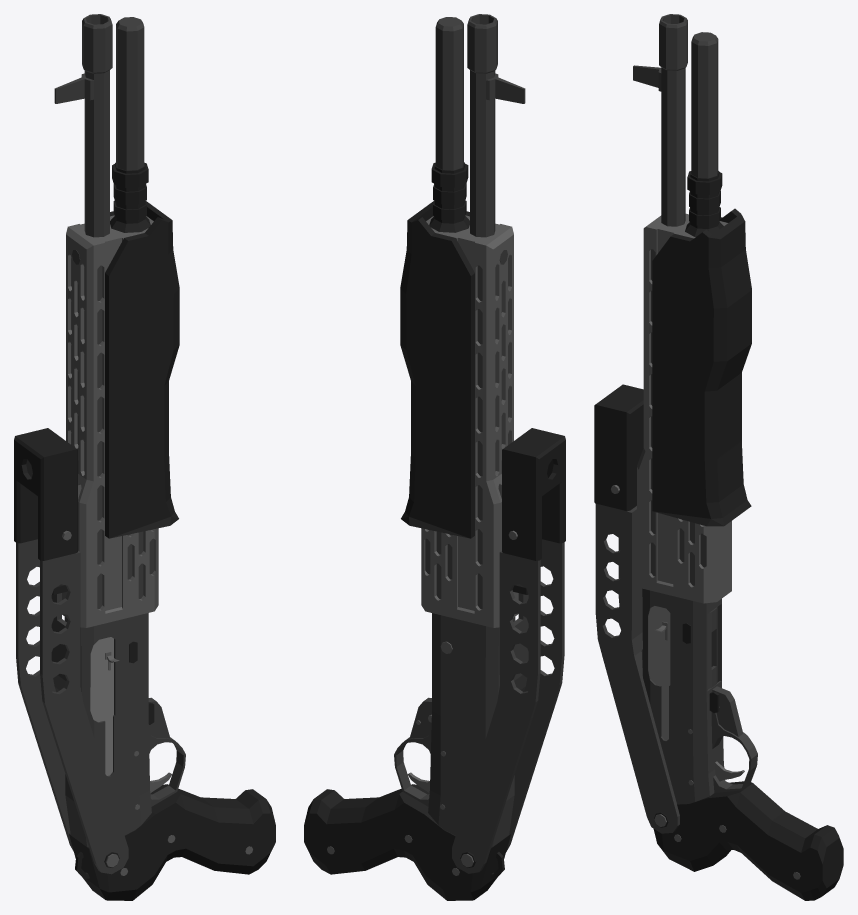
The model's file is spas12_viewmodel.glb.
3 renders of one model, left to right at view 1: azimuth 30°, elevation 25°; view 2: azimuth 150°, elevation 25°; view 3: azimuth 330°, elevation 25°, orthographic. The views are drawn at different scales.
Parts seen in each view (by area): view 1: SPAS-12; view 2: SPAS-12; view 3: SPAS-12.
Part boxes in pixels (<box>): SPAS-12: <box>14,14,275,900</box>; SPAS-12: <box>304,14,565,900</box>; SPAS-12: <box>594,14,843,900</box>.
Size of the model in its own units: 226 by 806 by 63.28.
1 material, 1 textured.
